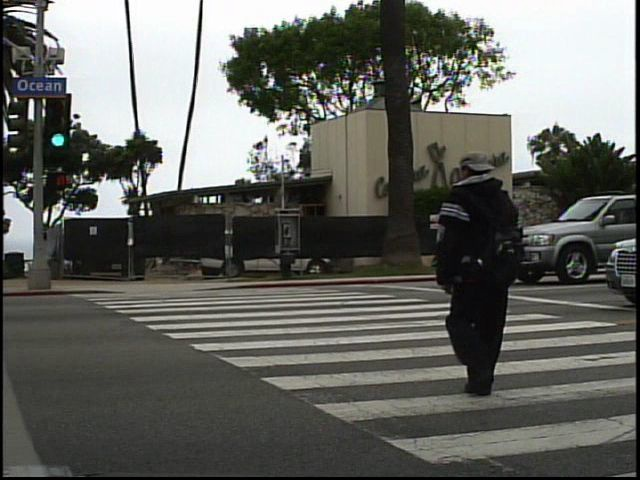person: (433, 140, 537, 399)
